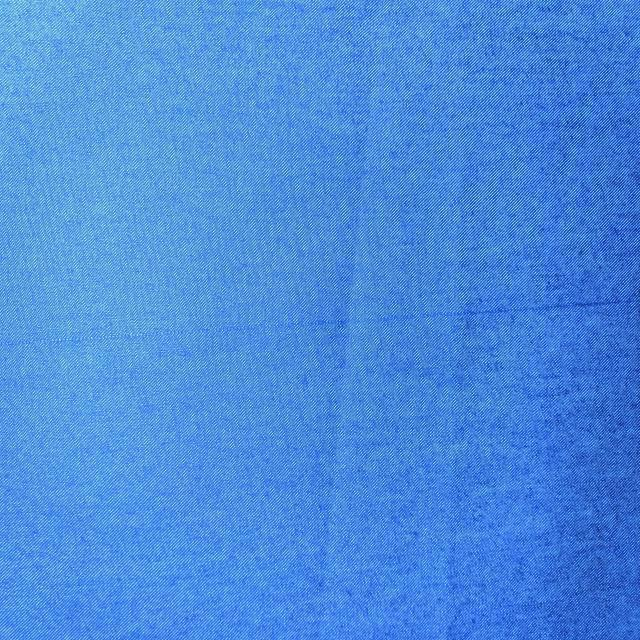Line: (0, 292, 640, 357)
